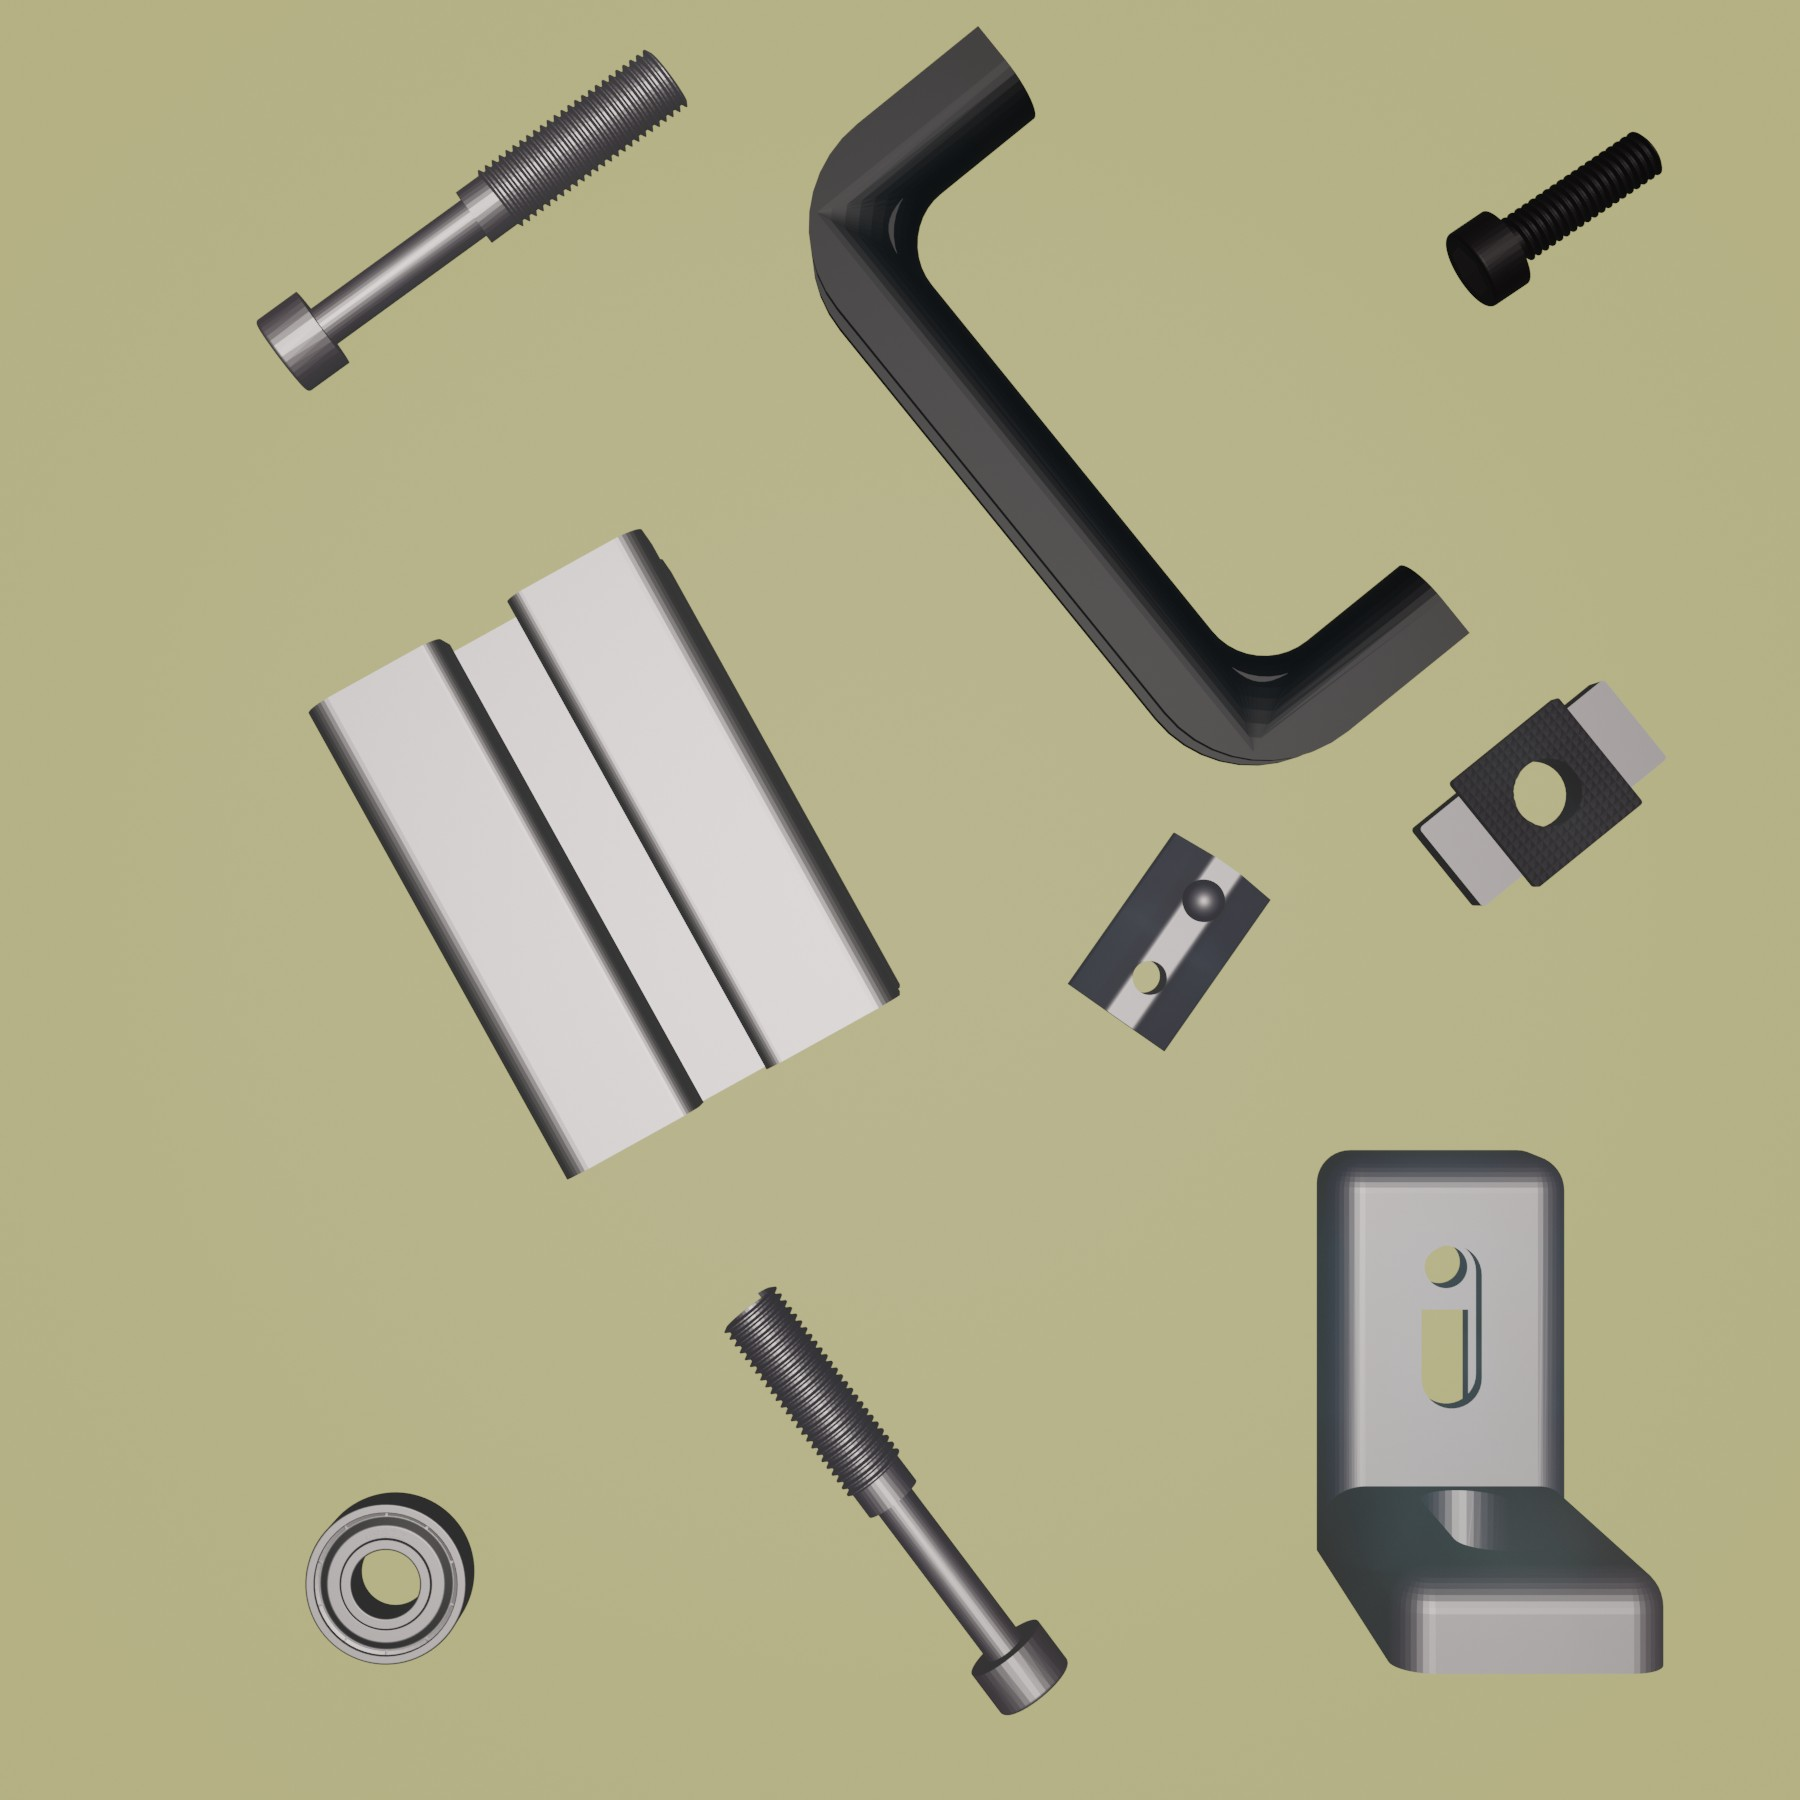Aluminium Extension: (308, 523, 902, 1182)
Ball Bearing: (303, 1488, 476, 1666)
Multiwinkel: (1310, 1146, 1666, 1681)
Pull Handle: (809, 25, 1470, 768)
Shoulder Socket Head Cap Screw: (255, 41, 689, 396), (720, 1281, 1070, 1718)
Socket Head Cap Screw: (1442, 127, 1666, 308)
T Nut Square: (1413, 676, 1670, 908)
T Spring Nut: (1063, 831, 1274, 1053)
